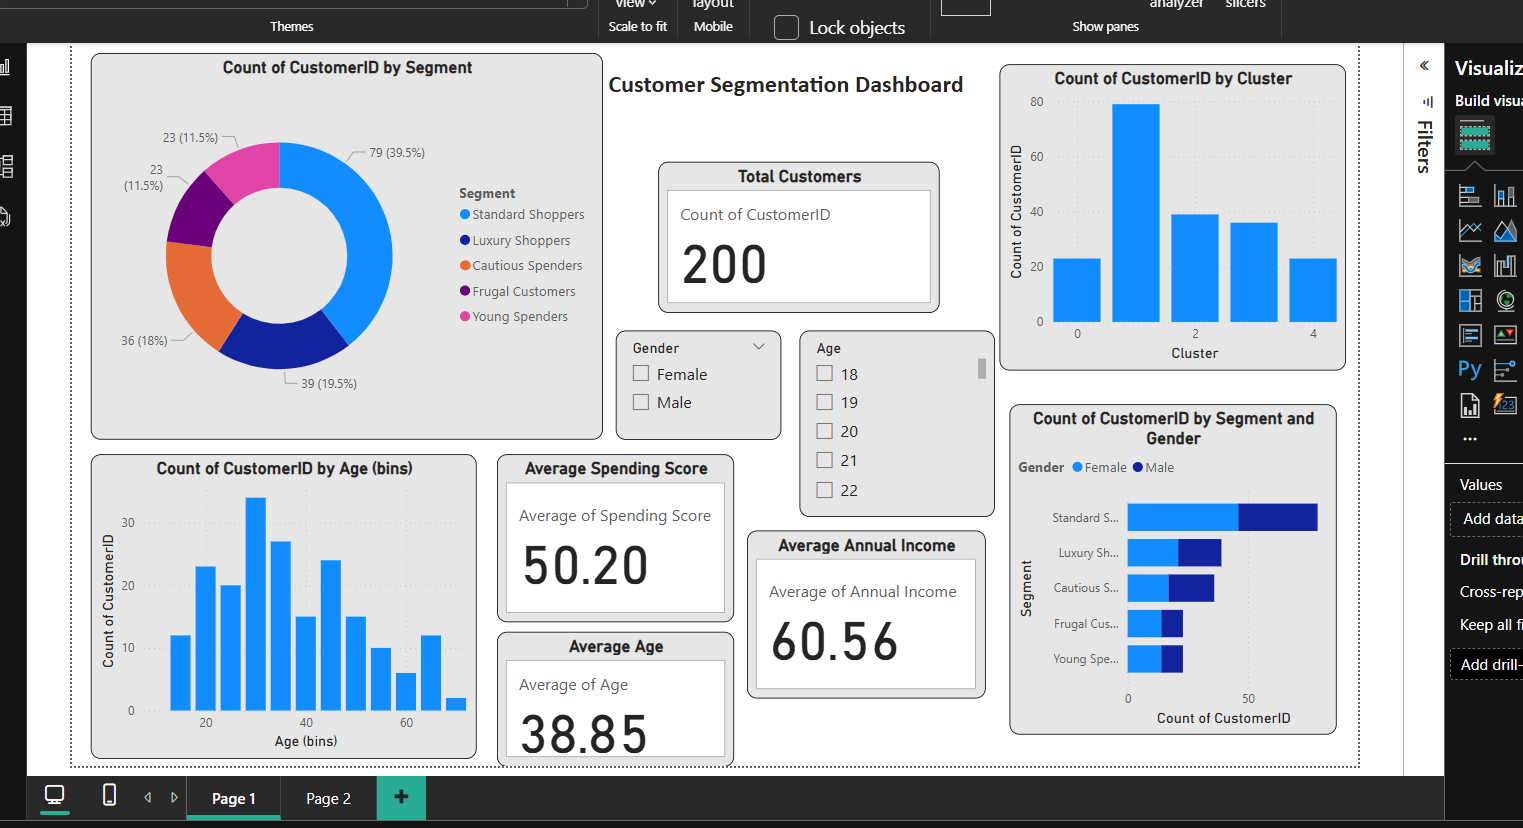

What the dashboard file says about the page in this screenshot:
{"tool":"powerbi","page":{"name":"Page 1","canvas":[1280,720],"ordinal":0},"visuals":[{"type":"donutChart","fields":{"Category":["clustered_customers (2).Segment"],"Y":["CountNonNull(clustered_customers (2).CustomerID)"]},"box":[18.3,9.8,509.9,385.2],"z":0},{"type":"columnChart","fields":{"Category":["clustered_customers (2).Cluster"],"Y":["CountNonNull(clustered_customers (2).CustomerID)"]},"box":[923.2,20.8,344.8,304.5],"z":1000},{"type":"barChart","fields":{"Series":["clustered_customers (2).Gender"],"Category":["clustered_customers (2).Segment"],"Y":["Count(clustered_customers (2).CustomerID)"]},"box":[933,359.5,325.3,328.9],"z":2000},{"type":"clusteredColumnChart","fields":{"Y":["Count(clustered_customers (2).CustomerID)"],"Category":["clustered_customers (2).Age (bins)"]},"box":[18.3,409.6,384,303.3],"z":3000},{"type":"slicer","fields":{"Values":["clustered_customers (2).Gender"]},"box":[541.7,286.1,165.1,108.8],"z":4000},{"type":"slicer","fields":{"Values":["clustered_customers (2).Age"]},"box":[723.9,286.1,194.4,185.9],"z":5000},{"type":"cardVisual","title":"Total Customers","fields":{"Data":["CountNonNull(clustered_customers (2).CustomerID)"]},"box":[583.3,118.6,280,150.4],"z":6000},{"type":"cardVisual","title":"Average Age","fields":{"Data":["Avg(clustered_customers (2).Age)"]},"box":[423.1,585.7,236,134.5],"z":7000},{"type":"cardVisual","title":"Average Annual Income","fields":{"Data":["Avg(clustered_customers (2).Annual Income)"]},"box":[671.3,485.5,237.2,167.5],"z":8000},{"type":"cardVisual","title":"Average Spending Score ","fields":{"Data":["Avg(clustered_customers (2).Spending Score)"]},"box":[423.1,409.6,236,167.5],"z":9000},{"type":"textbox","box":[528.3,20.8,390.1,81.9],"z":10000}]}

Visuals, with their boxes on the page's 1280x720 design canvas (x1, y1, x2, y2). These are canvas units, not pixel positions in the 1523x828 screenshot, which may show the page scaled, cropped or inside an application window:
donutChart - clustered_customers (2).Segment x CountNonNull(clustered_customers (2).CustomerID): (18, 10, 528, 395)
columnChart - clustered_customers (2).Cluster x CountNonNull(clustered_customers (2).CustomerID): (923, 21, 1268, 325)
barChart - clustered_customers (2).Gender x clustered_customers (2).Segment: (933, 360, 1258, 688)
clusteredColumnChart - Count(clustered_customers (2).CustomerID) x clustered_customers (2).Age (bins): (18, 410, 402, 713)
slicer - clustered_customers (2).Gender: (542, 286, 707, 395)
slicer - clustered_customers (2).Age: (724, 286, 918, 472)
"Total Customers" cardVisual: (583, 119, 863, 269)
"Average Age" cardVisual: (423, 586, 659, 720)
"Average Annual Income" cardVisual: (671, 486, 908, 653)
"Average Spending Score " cardVisual: (423, 410, 659, 577)
textbox: (528, 21, 918, 103)
